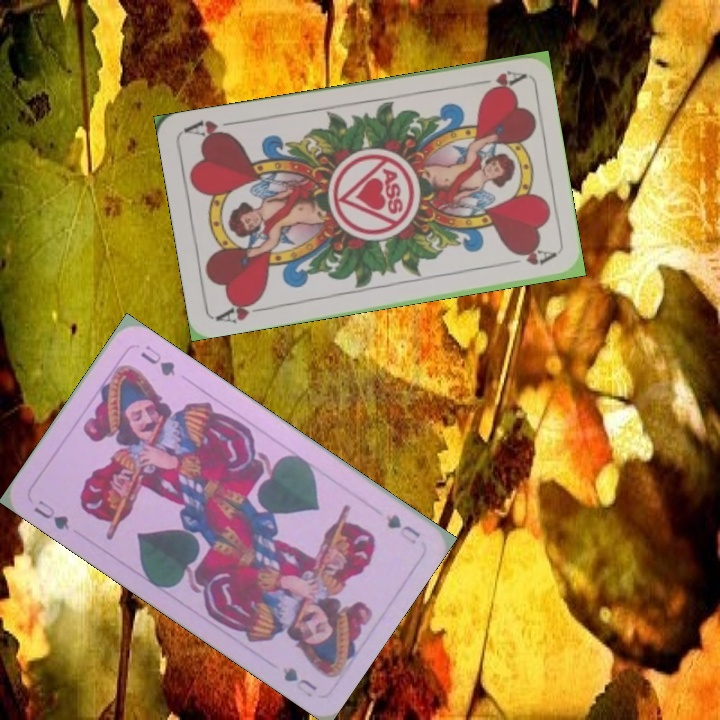GU: (30, 495, 72, 533), (381, 510, 423, 547)
HA: (212, 294, 271, 326), (467, 66, 526, 95)
